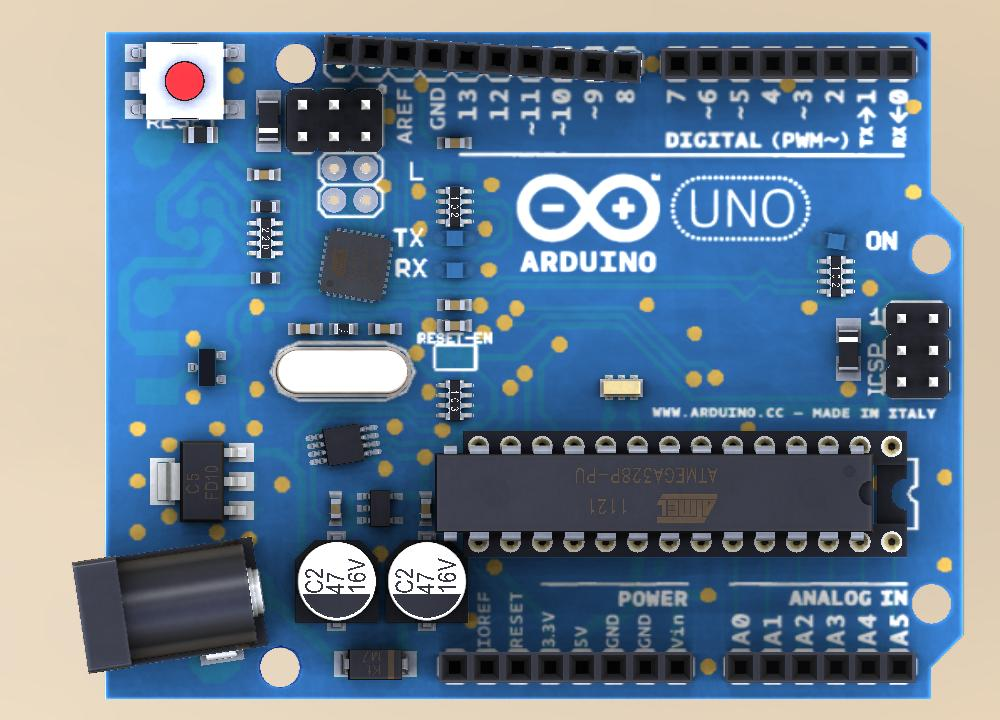16MHz Crystal: (599, 373, 646, 403)
47uF CAP: (382, 541, 469, 629), (296, 539, 381, 624)
ATMEL328P: (433, 428, 913, 558)
ATMega16u2: (315, 226, 394, 303)
CD1206: (253, 87, 283, 154), (834, 316, 862, 383)
Capa: (438, 315, 474, 334), (436, 295, 473, 313), (246, 166, 284, 183), (286, 321, 324, 338), (418, 489, 434, 527), (437, 135, 474, 151), (329, 490, 343, 528), (366, 322, 403, 336)
Crystal: (270, 340, 414, 405)
LMV358: (356, 487, 405, 529)
M7 diode: (332, 648, 419, 681)
PIN Header: (885, 300, 951, 400), (287, 87, 383, 152)
Ports: (319, 33, 647, 84), (662, 40, 919, 84), (433, 647, 698, 687), (722, 646, 919, 687)
Power: (67, 536, 269, 677)
Regulator: (128, 425, 261, 533)
Reset: (116, 36, 249, 123)
Resistor: (182, 127, 219, 146), (249, 197, 283, 214), (248, 271, 283, 287)
Resistor pack: (816, 252, 857, 299), (245, 218, 286, 260), (437, 380, 475, 425), (434, 187, 475, 228)
SSOT3: (186, 348, 231, 389)
lp2985: (304, 421, 384, 468)
